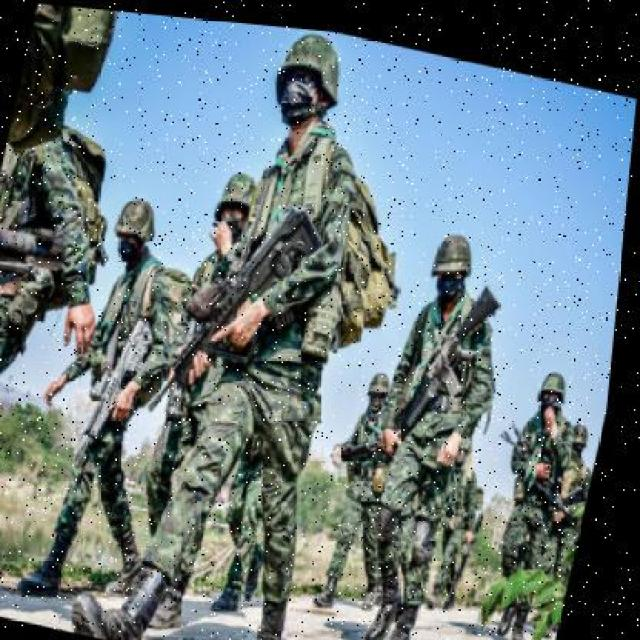MIL_Pax: (151, 37, 407, 640), (0, 0, 138, 620), (43, 147, 242, 576), (343, 214, 512, 640), (133, 162, 281, 550), (490, 344, 595, 634), (317, 346, 408, 596), (434, 413, 514, 622), (547, 381, 613, 567)
